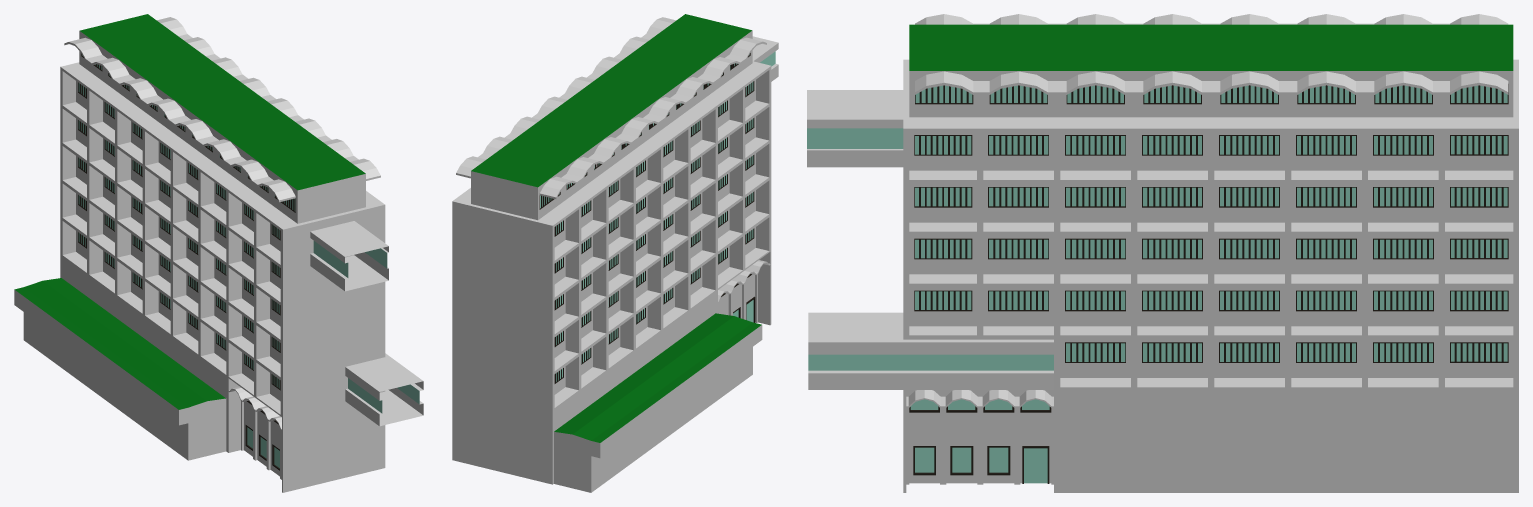
Rendered from Br William Hall.fbx.
3 renders of one model, left to right at view 1: azimuth 30°, elevation 25°; view 2: azimuth 150°, elevation 25°; view 3: azimuth 270°, elevation 25°, orthographic. The views are drawn at different scales.
Visible parts, largest first — view 1: Br William Hall; view 2: Br William Hall; view 3: Br William Hall.
Boxes of the visible parts, x1,y1,x2,y2 form: Br William Hall: (14,14,423,492); Br William Hall: (452,14,778,492); Br William Hall: (807,14,1518,492).
Bounding box in the file's own units: 37.58 × 69.32 × 109.
